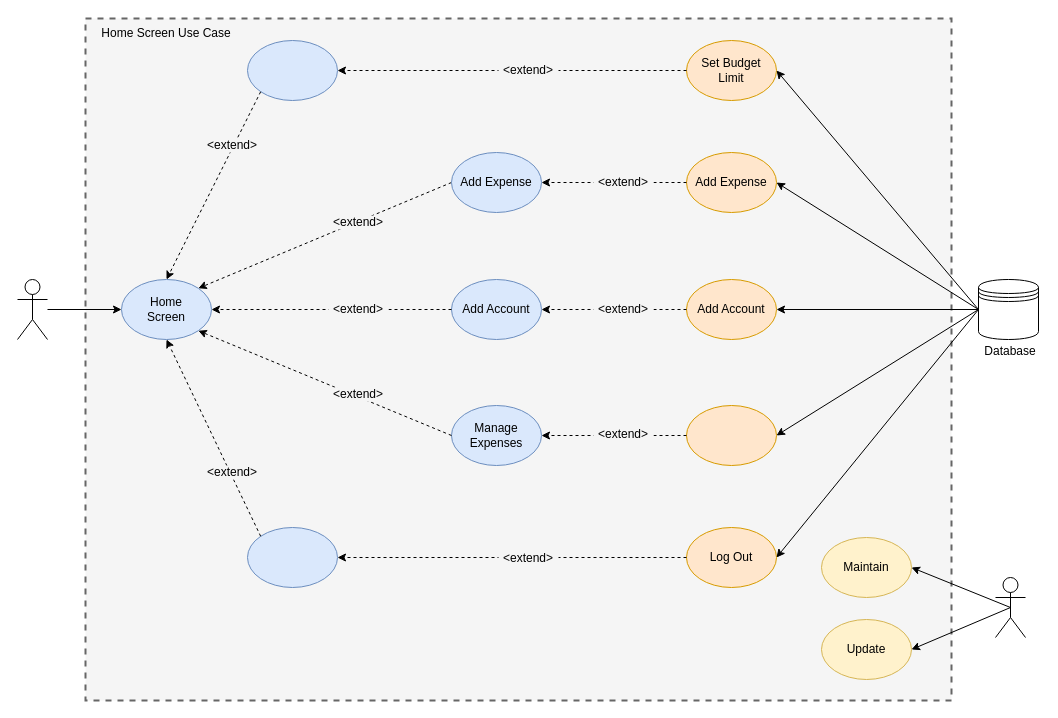
Some shapes in this 1058 by 718 pixel diagram are drawn without their labels. Each missing label, with the box of its shape:
Charts: (246, 40, 338, 100)
Developer: (994, 576, 1026, 638)
Edit/Delete Expense: (686, 404, 776, 466)
Profile: (246, 526, 338, 588)
User: (16, 278, 48, 340)
